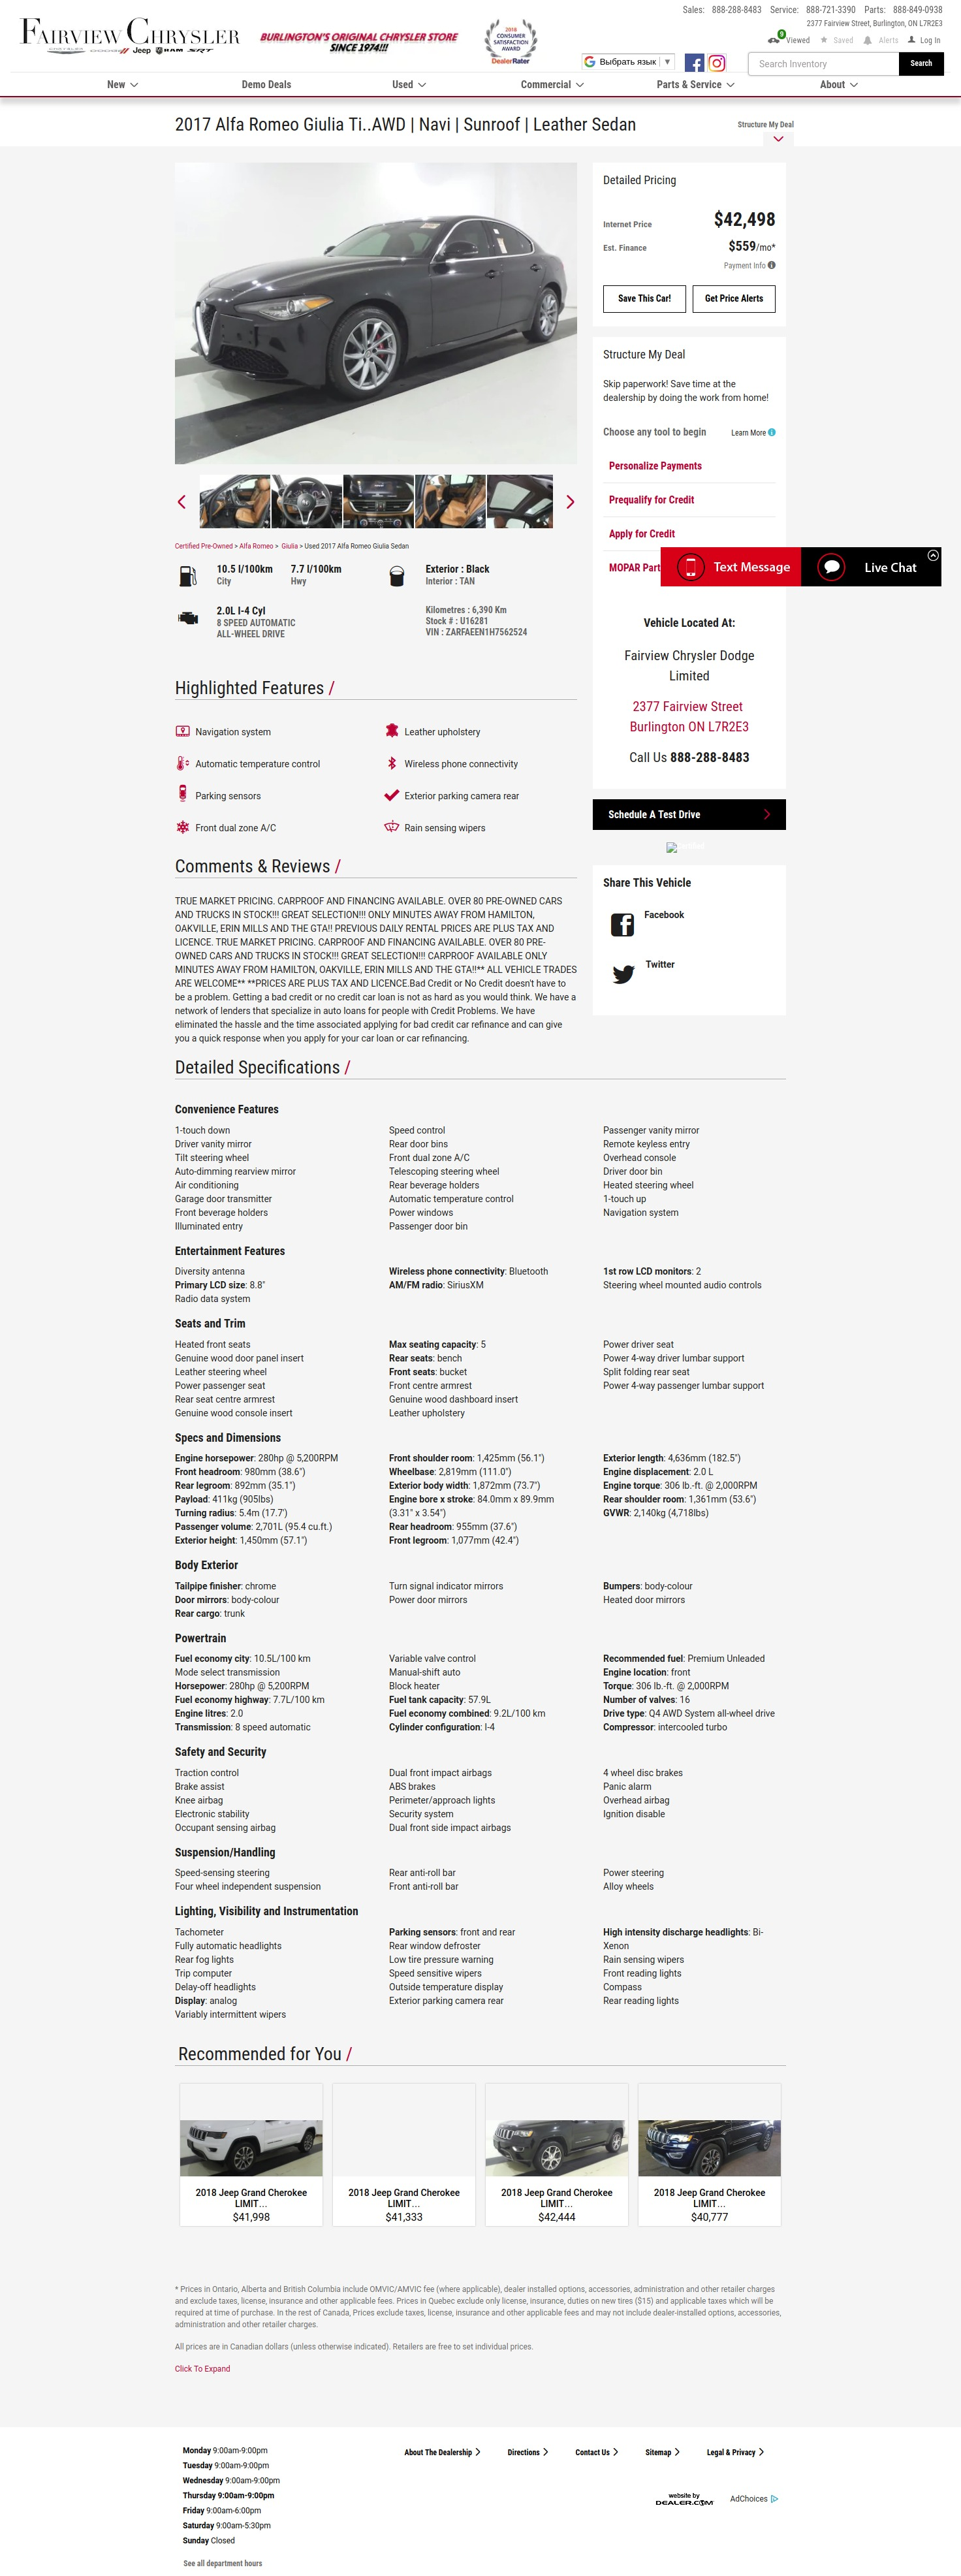car: (567, 496, 575, 509)
